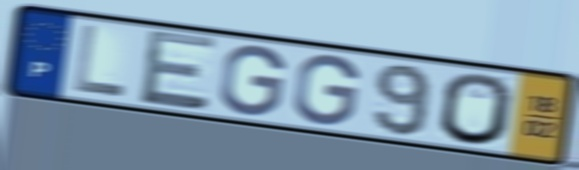9: (369, 61, 434, 139)
E: (137, 26, 220, 113)
G: (215, 43, 290, 119), (289, 52, 364, 128)
L: (70, 21, 130, 100)
O: (438, 71, 516, 148)
